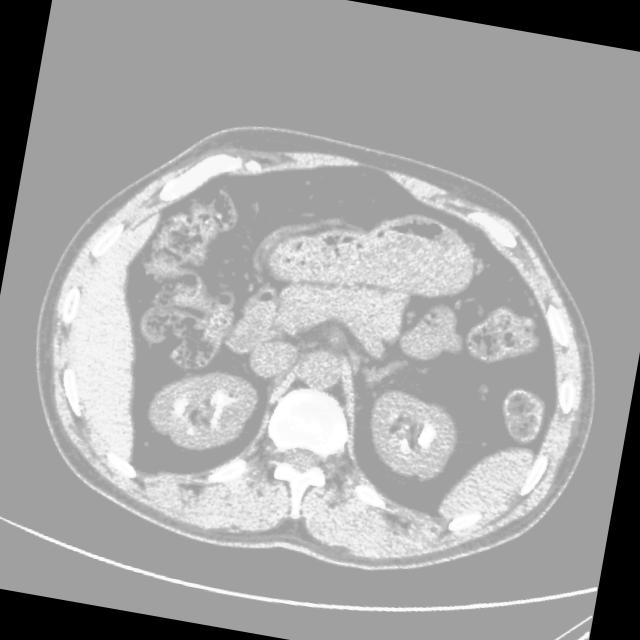STONE: (101, 214, 497, 514)
